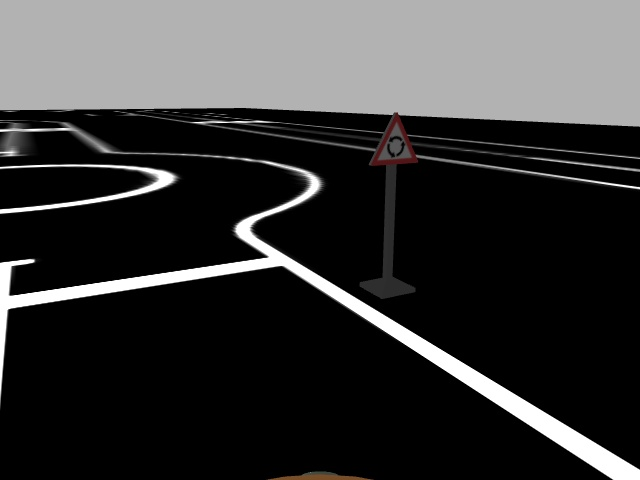roundabout: (365, 112, 420, 167)
